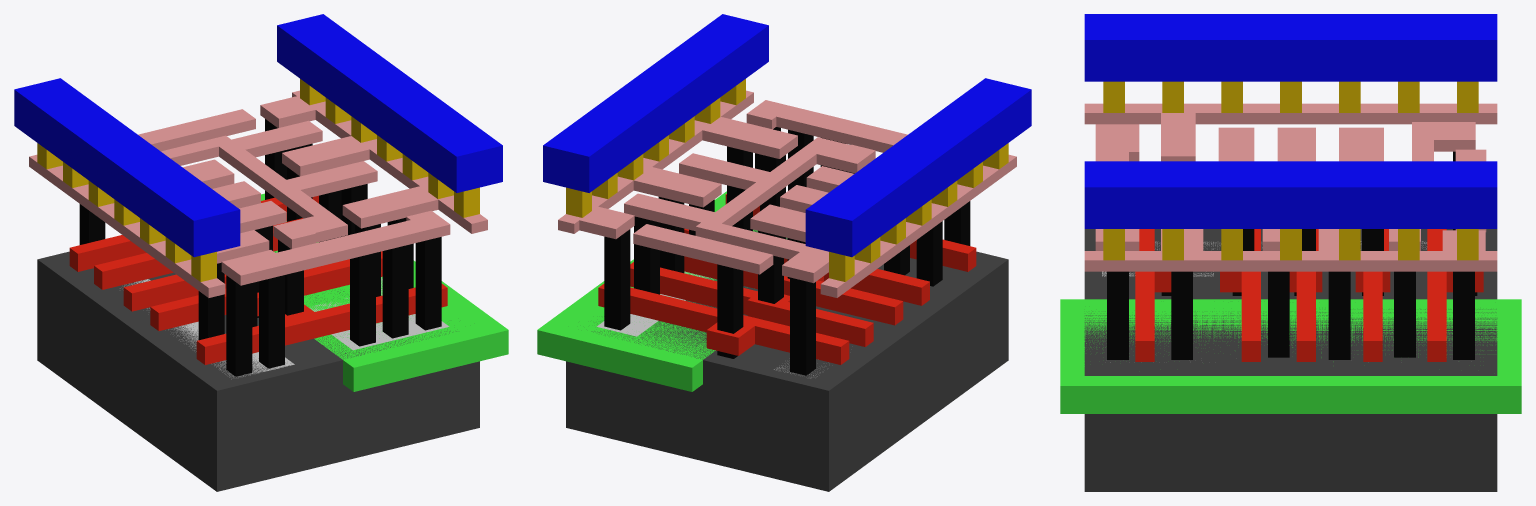
The model's file is sky130_fd_sc_hd__and4_1.obj.
3 views of the same model, side by side, from view 1: azimuth 30°, elevation 25°; view 2: azimuth 150°, elevation 25°; view 3: azimuth 270°, elevation 25° (orthographic). The views are drawn at different scales.
Visible parts, largest first — view 1: subs, metal1, li, licon, poly, nwell, mcon, tap, diff; view 2: subs, metal1, li, poly, licon, nwell, mcon, tap; view 3: metal1, subs, nwell, li, licon, poly, mcon.
Part boxes in pixels (<box>): subs: <box>37,251,479,491</box>; metal1: <box>14,14,502,257</box>; li: <box>29,90,487,297</box>; licon: <box>79,119,441,376</box>; poly: <box>69,195,447,364</box>; nwell: <box>261,193,508,391</box>; mcon: <box>37,79,479,281</box>; tap: <box>310,277,449,350</box>; diff: <box>120,279,294,379</box>; subs: <box>566,229,1008,491</box>; metal1: <box>543,14,1031,257</box>; li: <box>558,90,1016,297</box>; poly: <box>598,194,976,364</box>; licon: <box>604,127,970,375</box>; nwell: <box>537,191,786,391</box>; mcon: <box>566,79,1008,281</box>; tap: <box>596,271,713,336</box>; metal1: <box>1084,14,1497,228</box>; subs: <box>1084,229,1497,491</box>; nwell: <box>1060,299,1521,413</box>; li: <box>1084,103,1497,271</box>; licon: <box>1107,151,1477,359</box>; poly: <box>1135,229,1483,361</box>; mcon: <box>1103,81,1478,260</box>.
Size of the model in its own units: 3.2 by 2.74 by 3.6.
